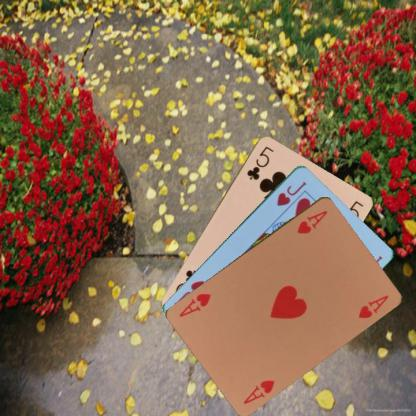5c: (244, 143, 275, 181)
Ah: (294, 207, 329, 235), (241, 377, 276, 405)
Jh: (274, 178, 308, 207)
